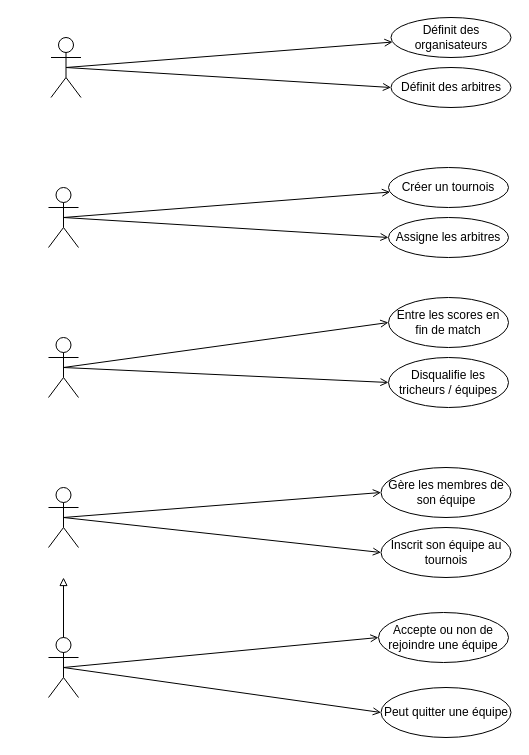
The diagram is 529 pixels wide and 755 high, and some of its shapes have lost their labels. Here are the shapes that lost their labels. From the top down, the box of each, then its label:
(50, 36, 81, 98): Administrateur
(48, 186, 78, 248): Organisateur
(48, 336, 78, 398): Arbitre
(48, 486, 78, 548): Chef d'équipe
(48, 636, 78, 698): Membre d'équipe
